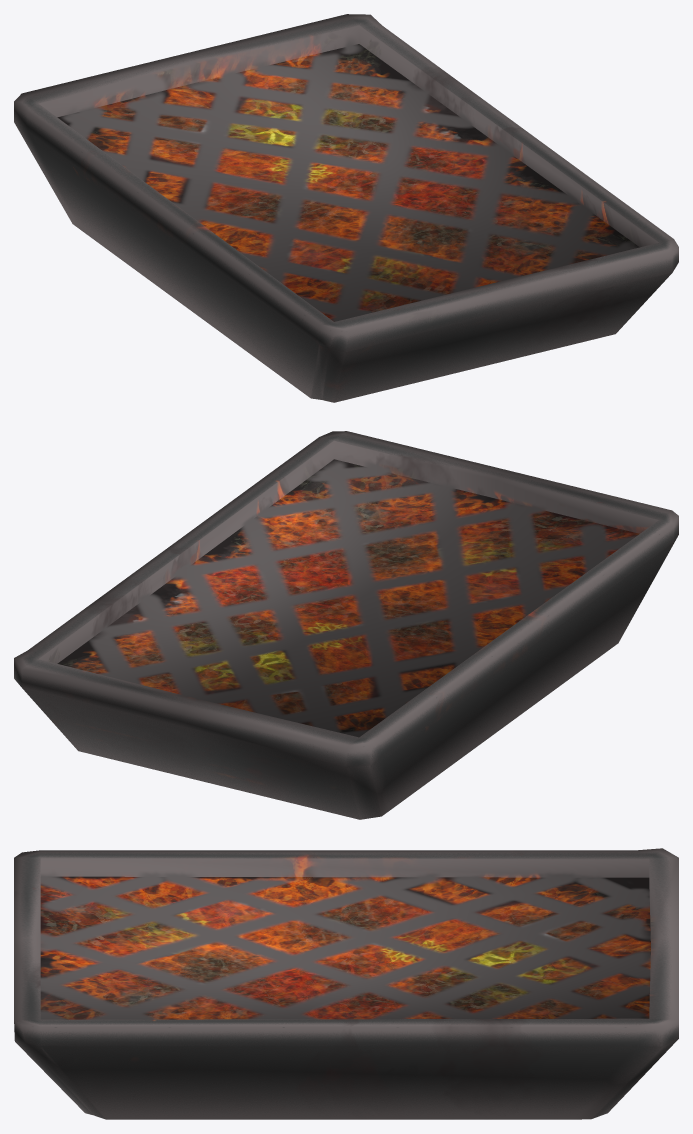
File: bbq.fbx
3 renders of one model, top to bottom at view 1: azimuth 30°, elevation 25°; view 2: azimuth 150°, elevation 25°; view 3: azimuth 270°, elevation 25°, orthographic. The views are drawn at different scales.
Visible parts, largest first — view 1: Cube; view 2: Cube; view 3: Cube.
Part boxes in pixels (<box>): Cube: <box>14,14,678,402</box>; Cube: <box>14,431,678,819</box>; Cube: <box>14,848,678,1119</box>.
Size of the model in its own units: 232 by 64.33 by 366.
